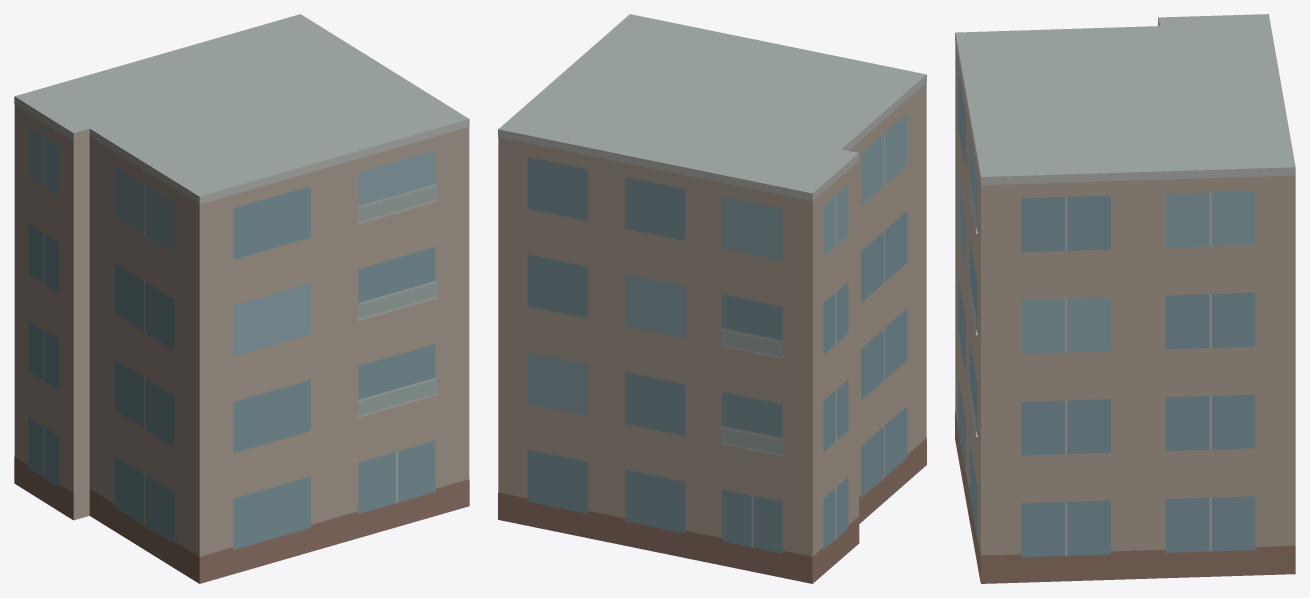
The model's file is survey-upis-32701897.glb.
3 views of the same model, side by side, from view 1: azimuth 30°, elevation 25°; view 2: azimuth 150°, elevation 25°; view 3: azimuth 270°, elevation 25° (orthographic). The views are drawn at different scales.
Parts seen in each view (by area): view 1: survey-upis-32701897.tmp; view 2: survey-upis-32701897.tmp; view 3: survey-upis-32701897.tmp.
Boxes of the visible parts, left/top/right/bottom form: survey-upis-32701897.tmp: left=14, top=14, right=469, bottom=583; survey-upis-32701897.tmp: left=498, top=14, right=926, bottom=583; survey-upis-32701897.tmp: left=955, top=14, right=1295, bottom=583.
Bounding box in the file's own units: 10.5 × 12.2 × 9.27.
